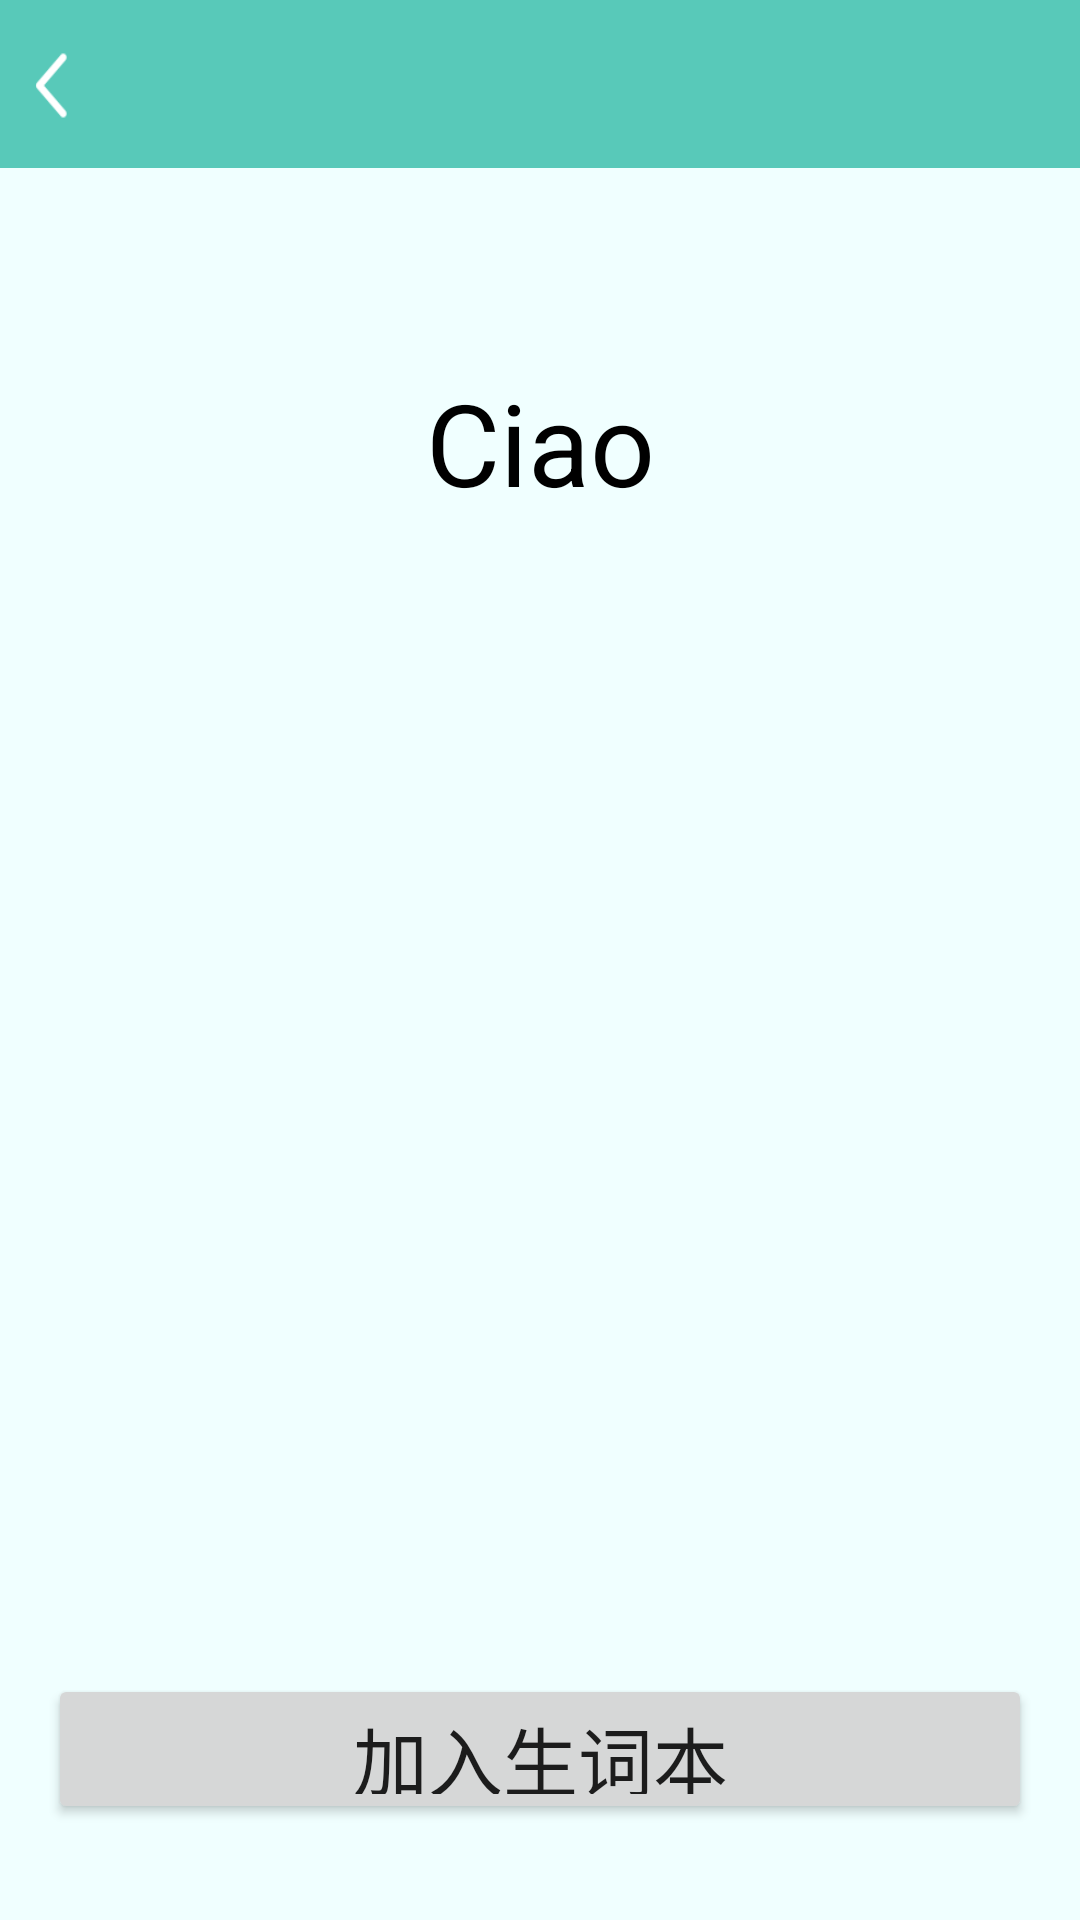

Locate icon controls on the screen. Image size 1080 × 1920, boxes as (x1, y1, x2, y2).
back: (36, 53, 67, 118)
